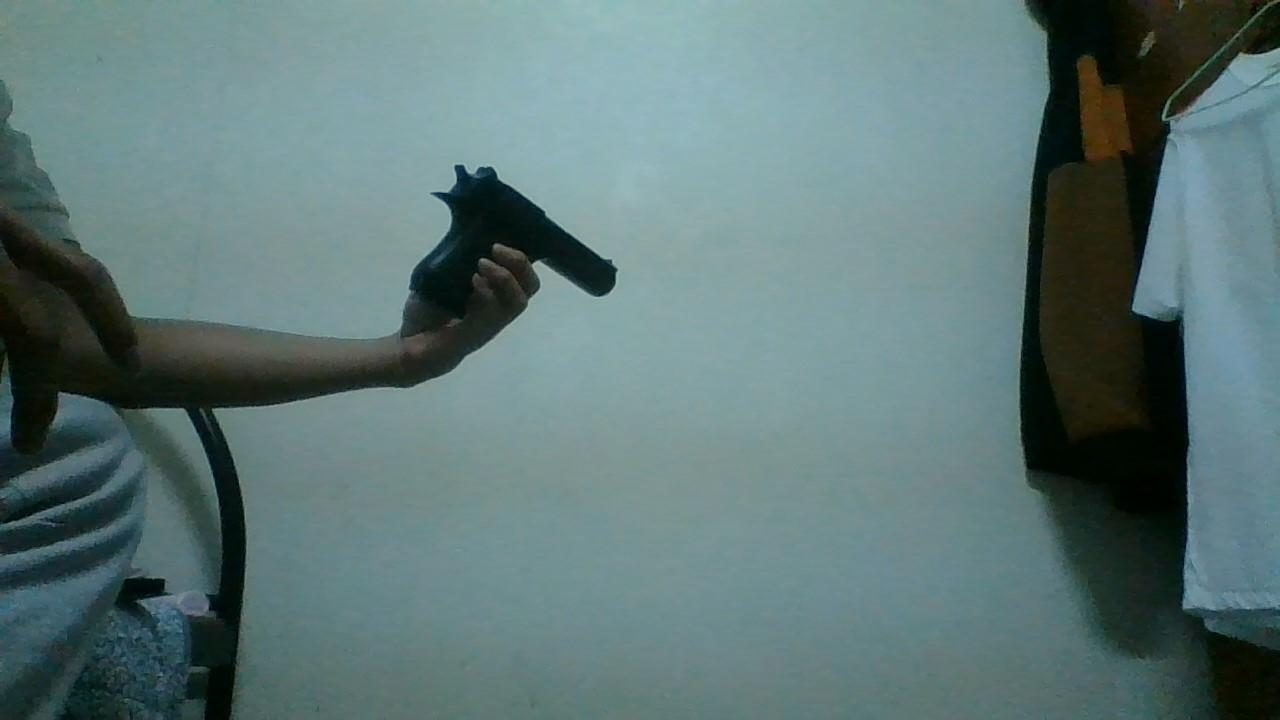weapon: (409, 159, 619, 319)
